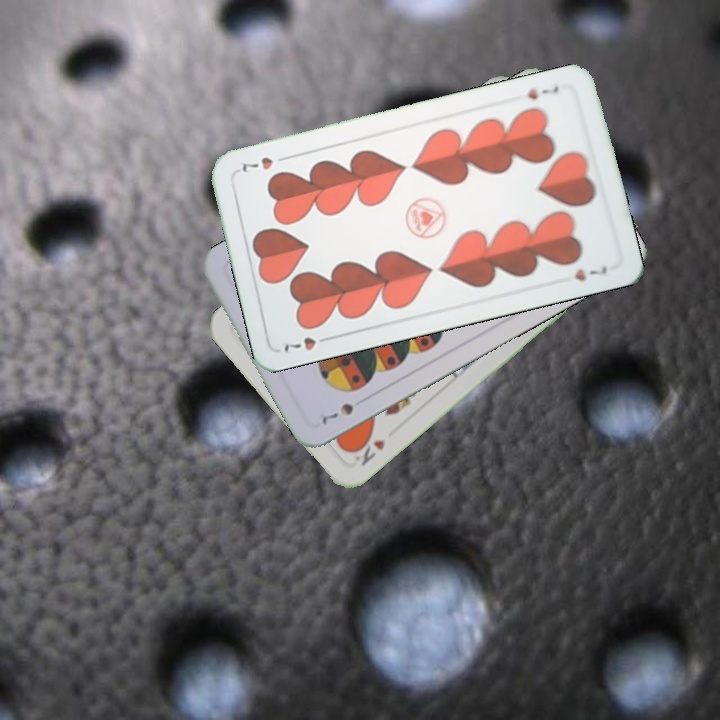H7: (278, 332, 335, 356), (523, 82, 561, 102)
HK: (347, 430, 388, 469)
S7: (317, 399, 357, 427)
